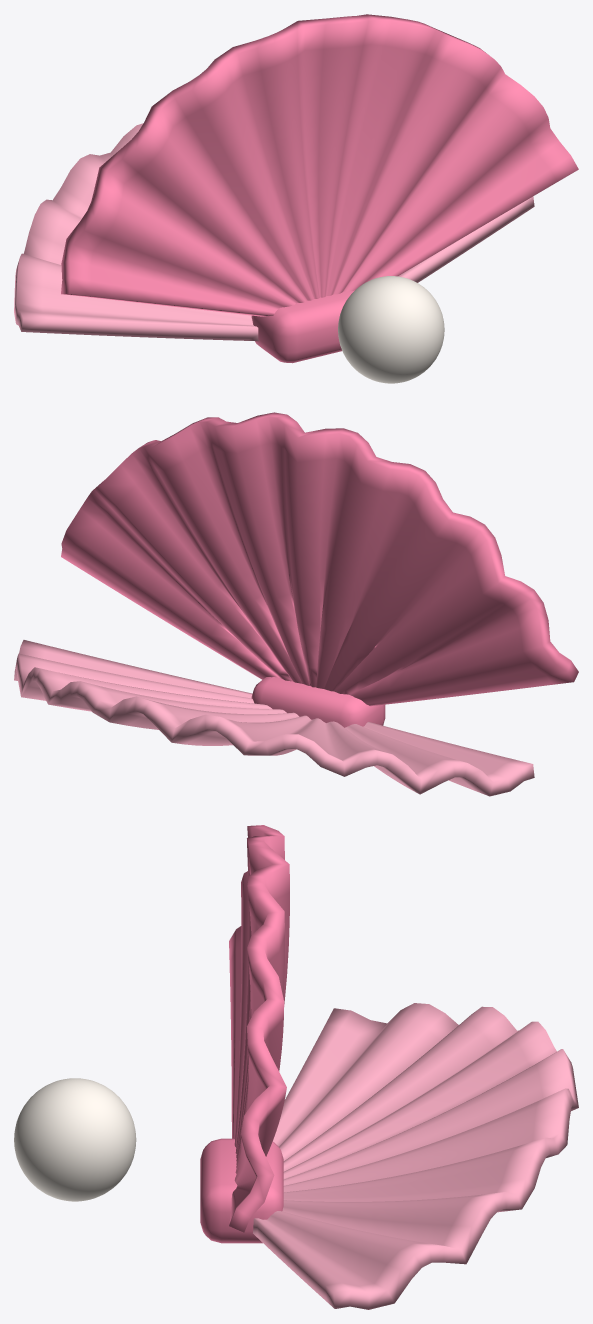
Rendered from kerang.glb.
3 renders of one model, top to bottom at view 1: azimuth 30°, elevation 25°; view 2: azimuth 150°, elevation 25°; view 3: azimuth 270°, elevation 25°, orthographic. The views are drawn at different scales.
Parts seen in each view (by area): view 1: kipas.001, kipas, Sphere, Cube; view 2: kipas.001, kipas, Cube; view 3: kipas, kipas.001, Sphere, Cube.
Boxes of the visible parts, x1,y1,x2,y2 form: kipas.001: [61, 14, 578, 316]; kipas: [14, 123, 534, 341]; Sphere: [338, 276, 444, 383]; Cube: [251, 290, 354, 363]; kipas.001: [61, 412, 578, 706]; kipas: [14, 640, 534, 796]; Cube: [251, 677, 385, 727]; kipas: [253, 1003, 578, 1309]; kipas.001: [229, 825, 289, 1232]; Sphere: [14, 1078, 136, 1201]; Cube: [200, 1138, 283, 1243].
Size of the model in its own units: 3.26 by 1.9 by 2.71.
